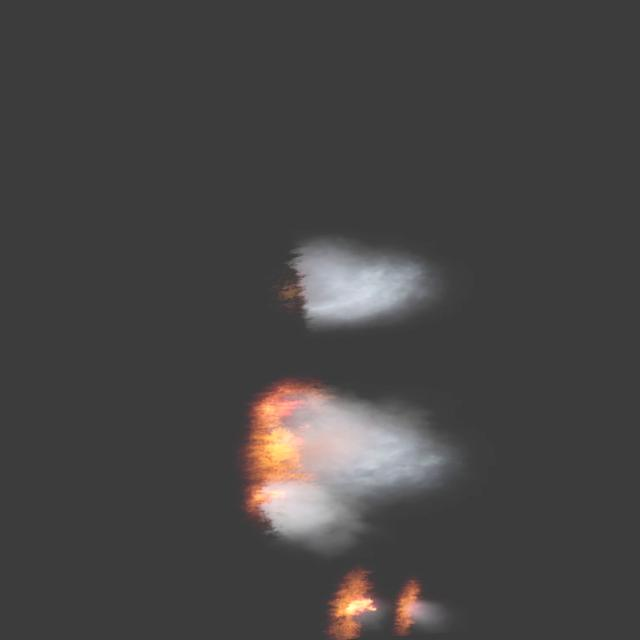fire: (230, 384, 330, 516), (344, 595, 380, 615)
smoke: (248, 368, 462, 552), (293, 228, 456, 332), (404, 599, 445, 624)
